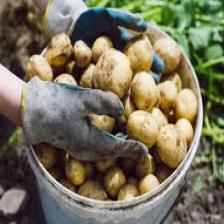Diseased-fungal potato: (88, 50, 131, 96), (158, 125, 189, 170), (133, 72, 161, 113), (46, 30, 73, 71)
Potato: (125, 110, 158, 152), (173, 88, 198, 124)
